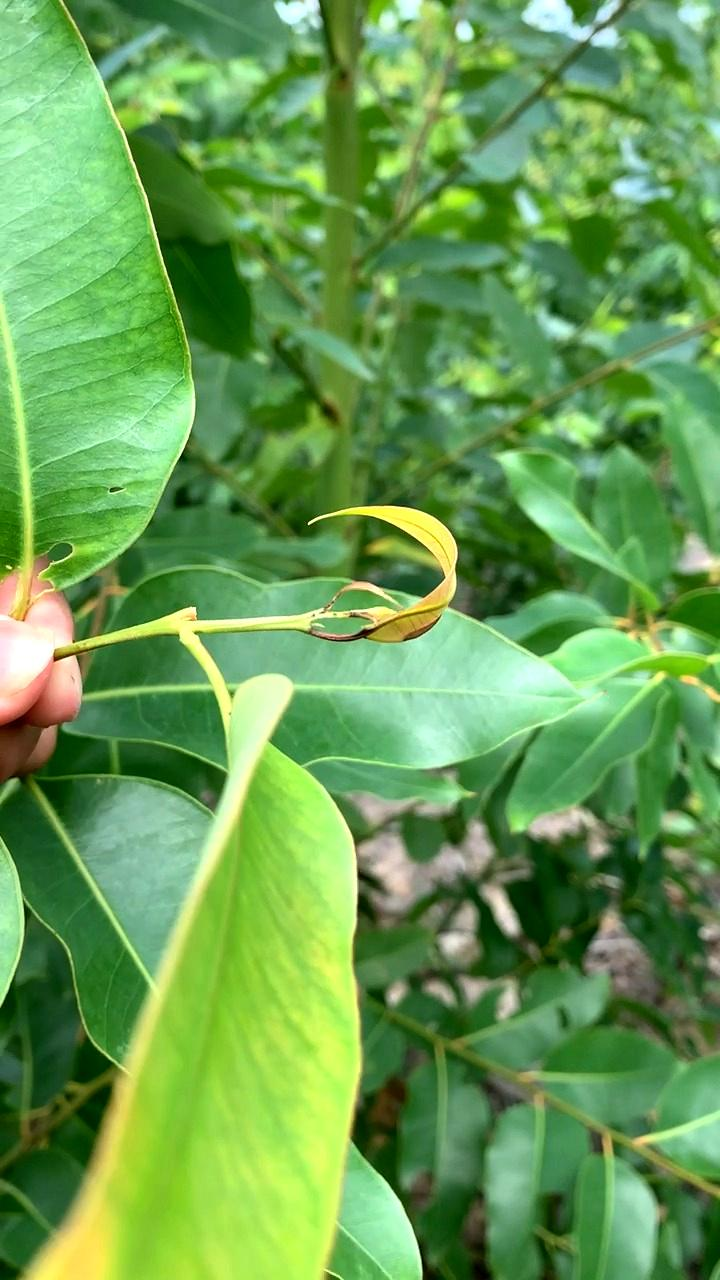Helopeltis-Withered Sprout: (318, 498, 459, 648)
